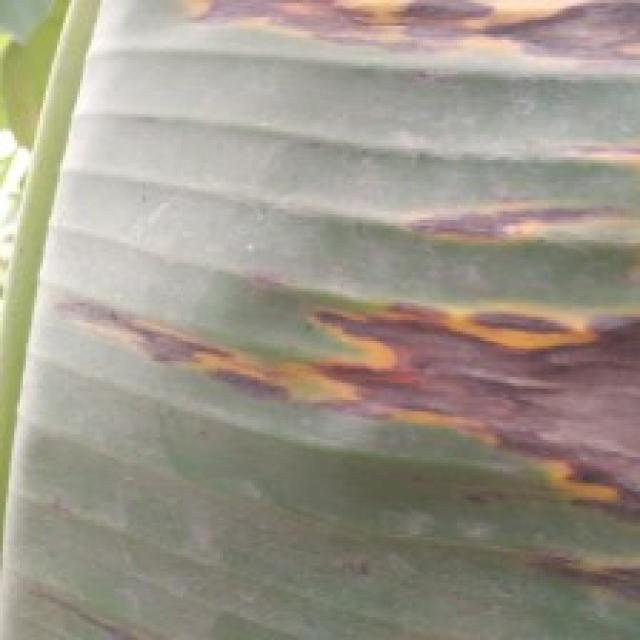Early_leaf_spot: (57, 246, 640, 523), (144, 0, 640, 91), (371, 112, 640, 275), (487, 487, 640, 598)
